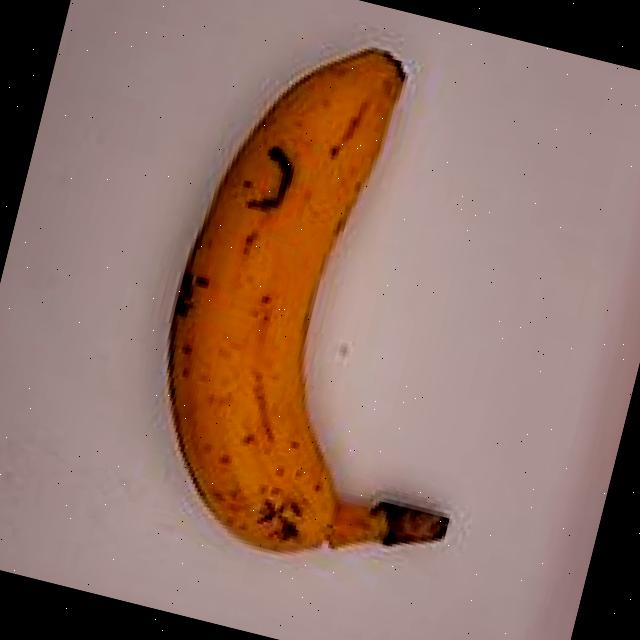Overripe: (86, 0, 605, 629)
